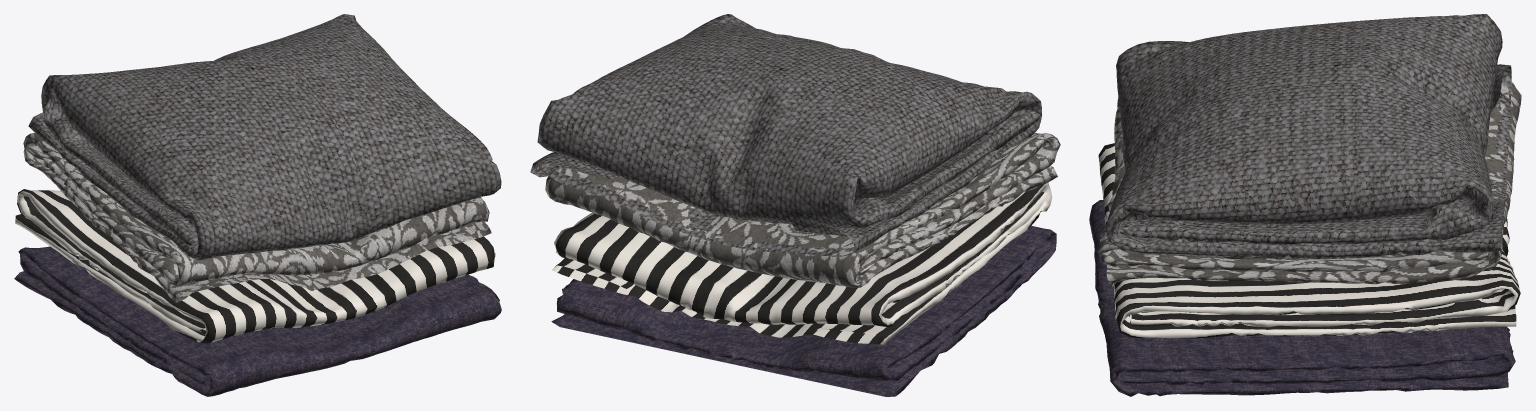
The model's file is w5-shelf-stack-set_14_025.glb.
3 views of the same model, side by side, from view 1: azimuth 30°, elevation 25°; view 2: azimuth 150°, elevation 25°; view 3: azimuth 270°, elevation 25° (orthographic). The views are drawn at different scales.
Parts seen in each view (by area): view 1: Shelf_set_14_079, Shelf_set_14_025, Shelf_set_14_081, Shelf_set_14_080; view 2: Shelf_set_14_079, Shelf_set_14_081, Shelf_set_14_025, Shelf_set_14_080; view 3: Shelf_set_14_079, Shelf_set_14_025, Shelf_set_14_081, Shelf_set_14_080.
Boxes of the visible parts, x1,y1,x2,y2 form: Shelf_set_14_079: (28,14,501,260); Shelf_set_14_025: (14,246,501,396); Shelf_set_14_081: (15,189,495,343); Shelf_set_14_080: (23,133,491,302); Shelf_set_14_079: (530,14,1041,256); Shelf_set_14_081: (552,182,1052,344); Shelf_set_14_025: (551,226,1056,396); Shelf_set_14_080: (545,133,1060,287); Shelf_set_14_079: (1105,14,1511,259); Shelf_set_14_025: (1089,200,1515,396); Shelf_set_14_081: (1098,143,1520,338); Shelf_set_14_080: (1097,82,1521,284).
Bounding box in the file's own units: 0.344 × 0.2145 × 0.3359.
Materials: 4 (4 with a texture image).
